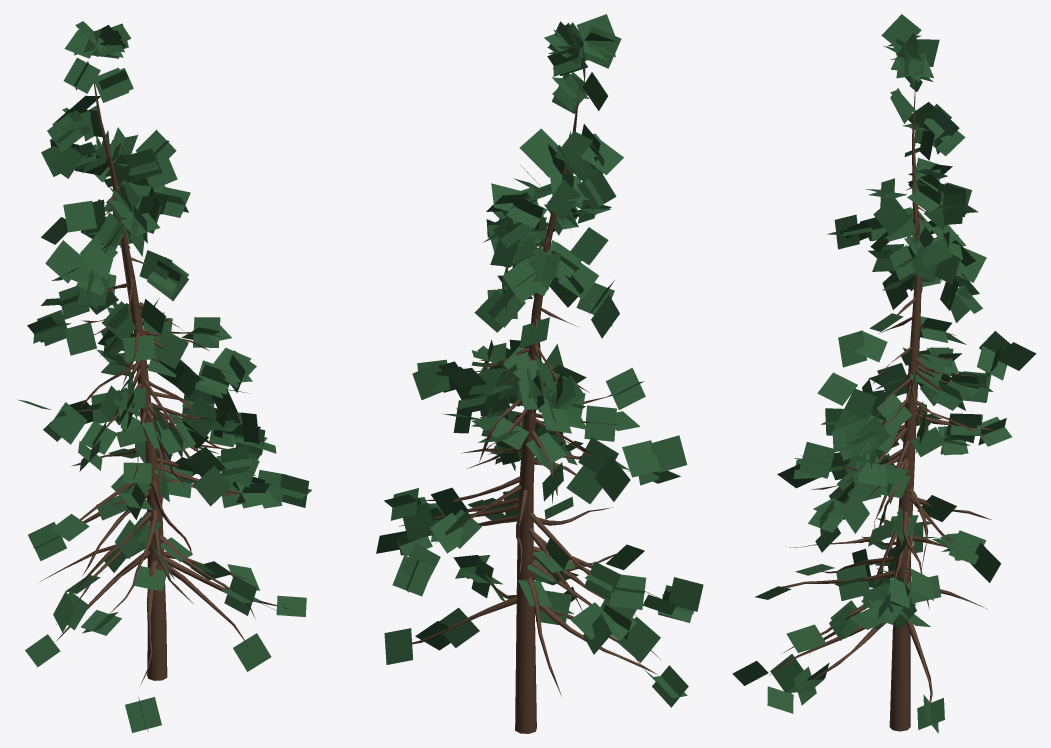
The model's file is meadow-pine-b.lod2.glb.
3 views of the same model, side by side, from view 1: azimuth 30°, elevation 25°; view 2: azimuth 150°, elevation 25°; view 3: azimuth 270°, elevation 25° (orthographic). The views are drawn at different scales.
Visible parts, largest first — view 1: leaves, bark; view 2: leaves, bark; view 3: leaves, bark.
Boxes of the visible parts, box(x1,y1,x2,y2) form: leaves: box(17, 21, 311, 732); bark: box(40, 82, 291, 685); leaves: box(376, 14, 703, 707); bark: box(409, 84, 660, 733); leaves: box(732, 14, 1036, 733); bark: box(769, 80, 994, 731).
Size of the model in its own units: 17 by 39.1 by 15.95.
